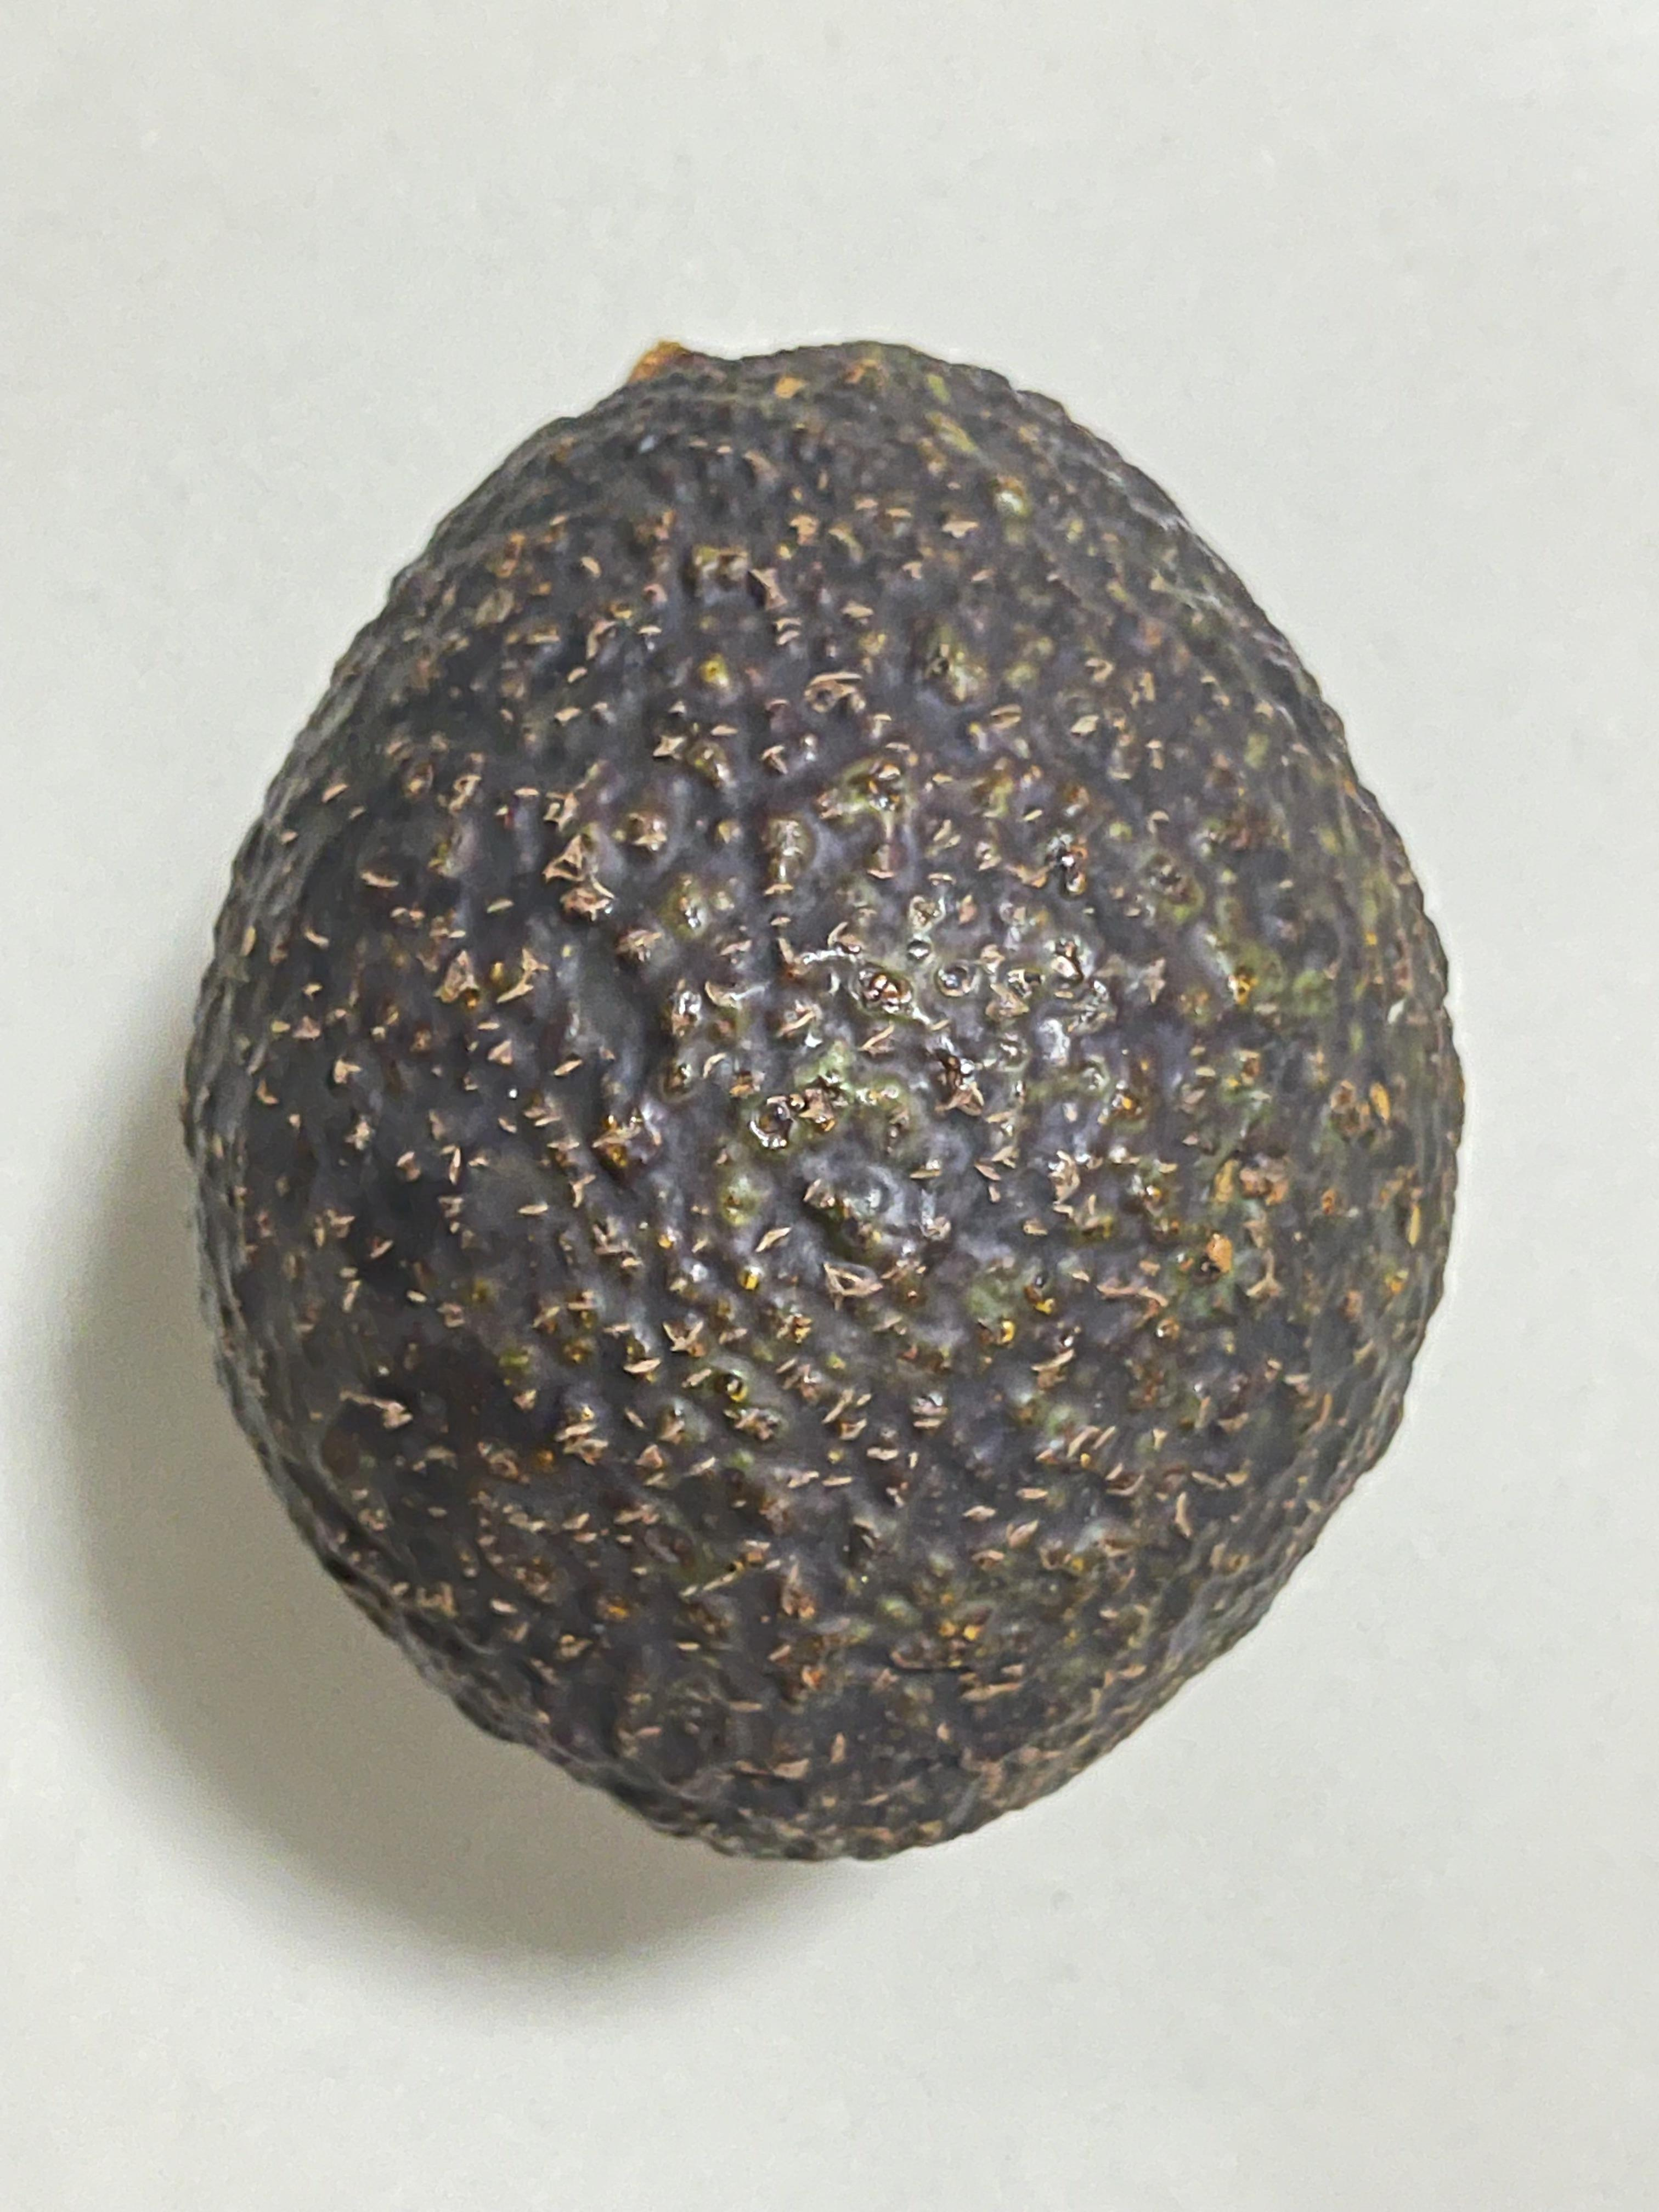Level2: (164, 296, 1488, 1881)
